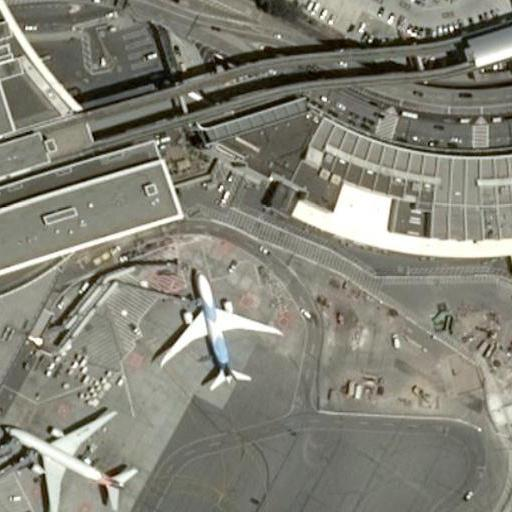Aircraft: (147, 256, 279, 398), (0, 407, 136, 509)
